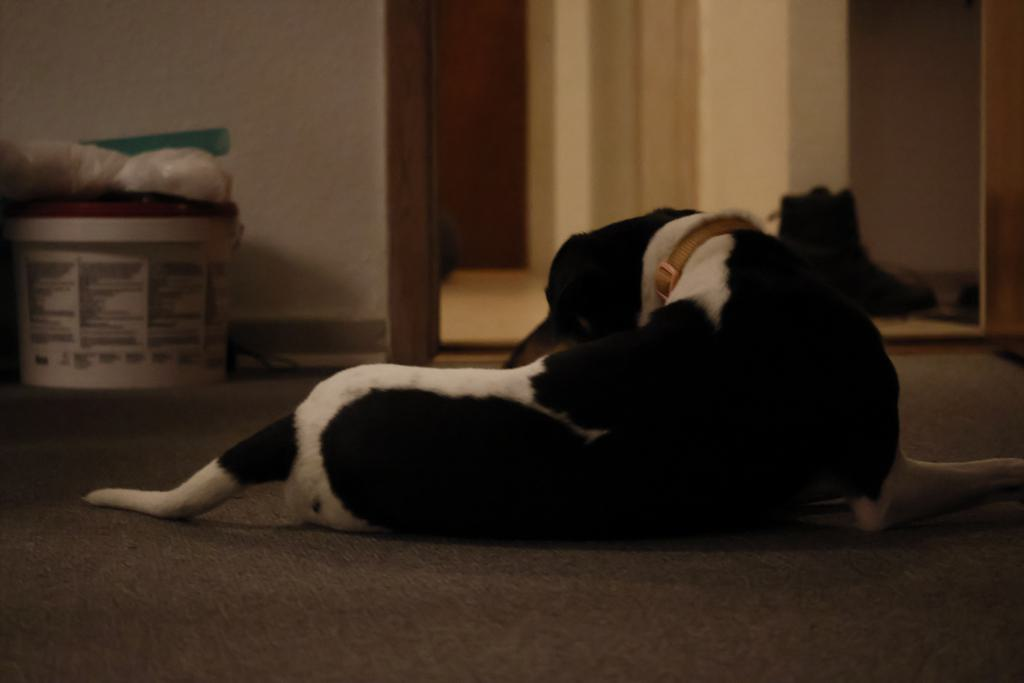Dog: (71, 198, 1024, 556)
